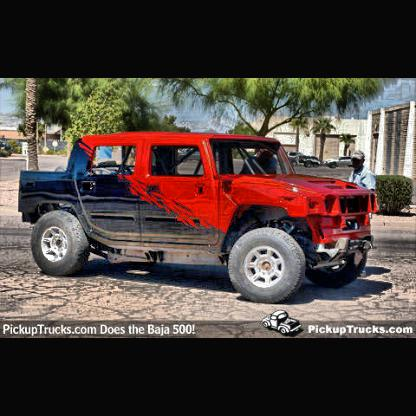HUMMER H2 SUT Crew Cab 2009: (20, 134, 383, 303)
